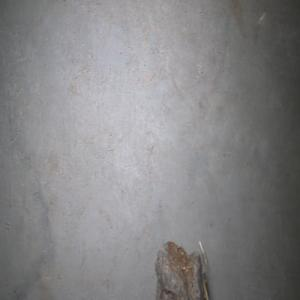Rock: (154, 240, 208, 300)
